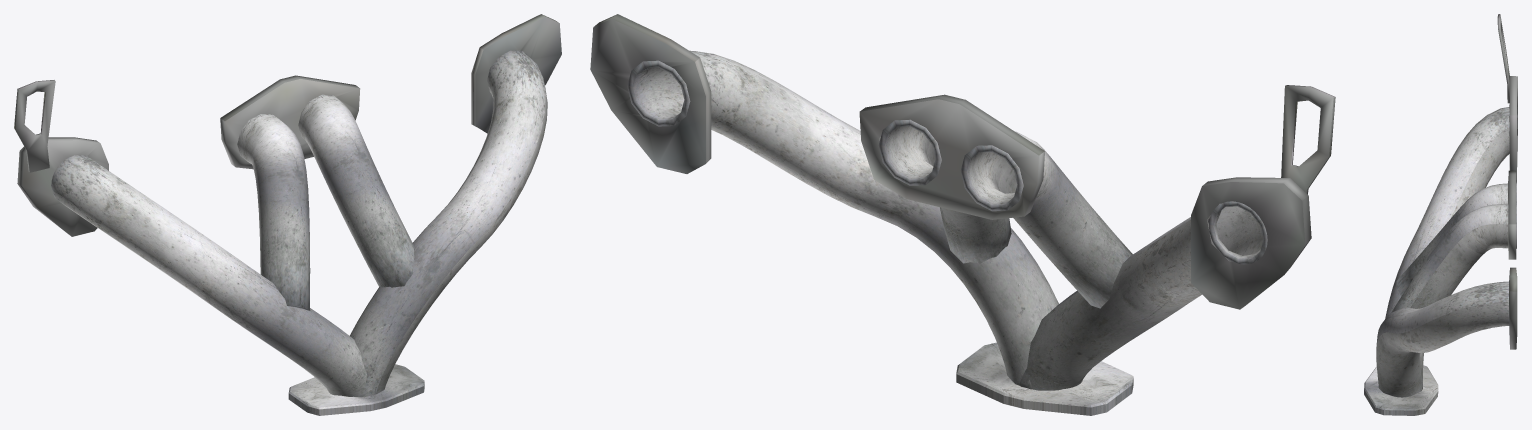
The model's file is exhaust_header.obj.
3 views of the same model, side by side, from view 1: azimuth 30°, elevation 25°; view 2: azimuth 150°, elevation 25°; view 3: azimuth 270°, elevation 25° (orthographic). The views are drawn at different scales.
Visible parts, largest first — view 1: Exhaust-Header-Tube_BezierCurve.004, Exhaust-Header-Cylinder-Connector_motor_racing_exhaust_manifold_, Exhaust-Header-Outlet-Connector_Plane.008; view 2: Exhaust-Header-Tube_BezierCurve.004, Exhaust-Header-Cylinder-Connector_motor_racing_exhaust_manifold_, Exhaust-Header-Outlet-Connector_Plane.008; view 3: Exhaust-Header-Tube_BezierCurve.004, Exhaust-Header-Cylinder-Connector_motor_racing_exhaust_manifold_, Exhaust-Header-Outlet-Connector_Plane.008.
Part boxes in pixels (x1,y1,x2,y2): Exhaust-Header-Tube_BezierCurve.004: (51,50,547,397); Exhaust-Header-Cylinder-Connector_motor_racing_exhaust_manifold_: (14,14,561,236); Exhaust-Header-Outlet-Connector_Plane.008: (288,364,424,415); Exhaust-Header-Tube_BezierCurve.004: (627,50,1267,390); Exhaust-Header-Cylinder-Connector_motor_racing_exhaust_manifold_: (590,14,1335,309); Exhaust-Header-Outlet-Connector_Plane.008: (956,342,1133,415); Exhaust-Header-Tube_BezierCurve.004: (1376,107,1517,397); Exhaust-Header-Cylinder-Connector_motor_racing_exhaust_manifold_: (1497,14,1517,349); Exhaust-Header-Outlet-Connector_Plane.008: (1364,365,1438,415).
Bounding box in the file's own units: 0.3719 × 0.2151 × 0.1105.
